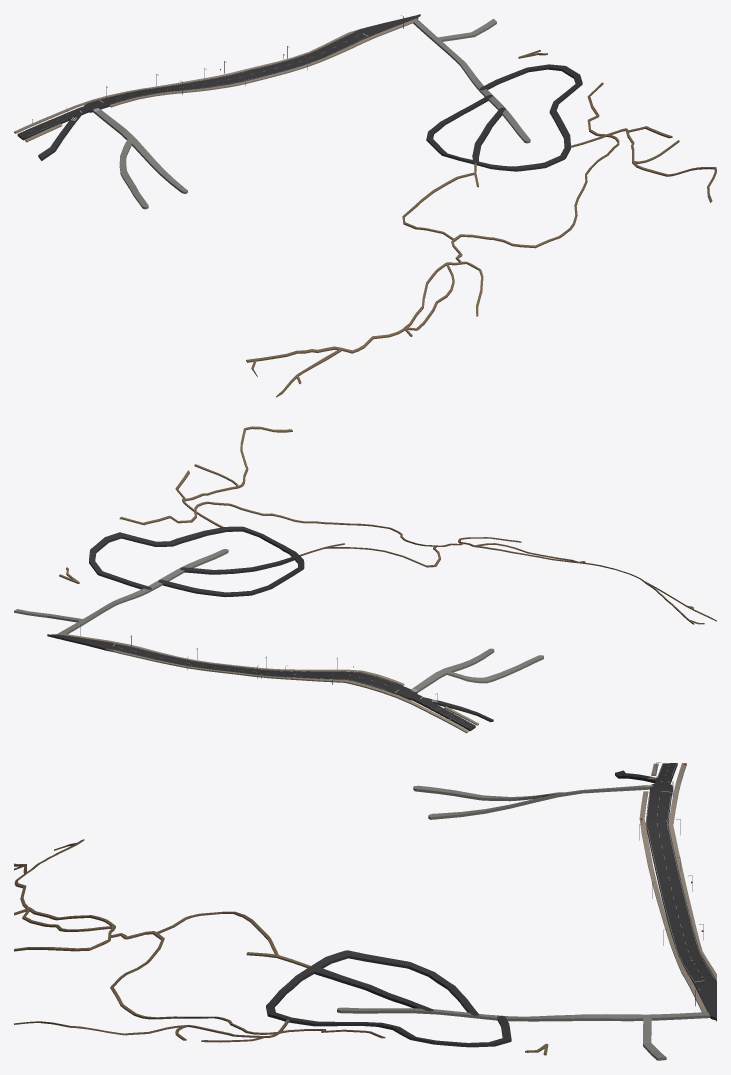
3 views of the same model, one above another, from view 1: azimuth 30°, elevation 25°; view 2: azimuth 150°, elevation 25°; view 3: azimuth 270°, elevation 25° (orthographic). The views are drawn at different scales.
Size of the model in its own units: 293 by 62.57 by 292.
